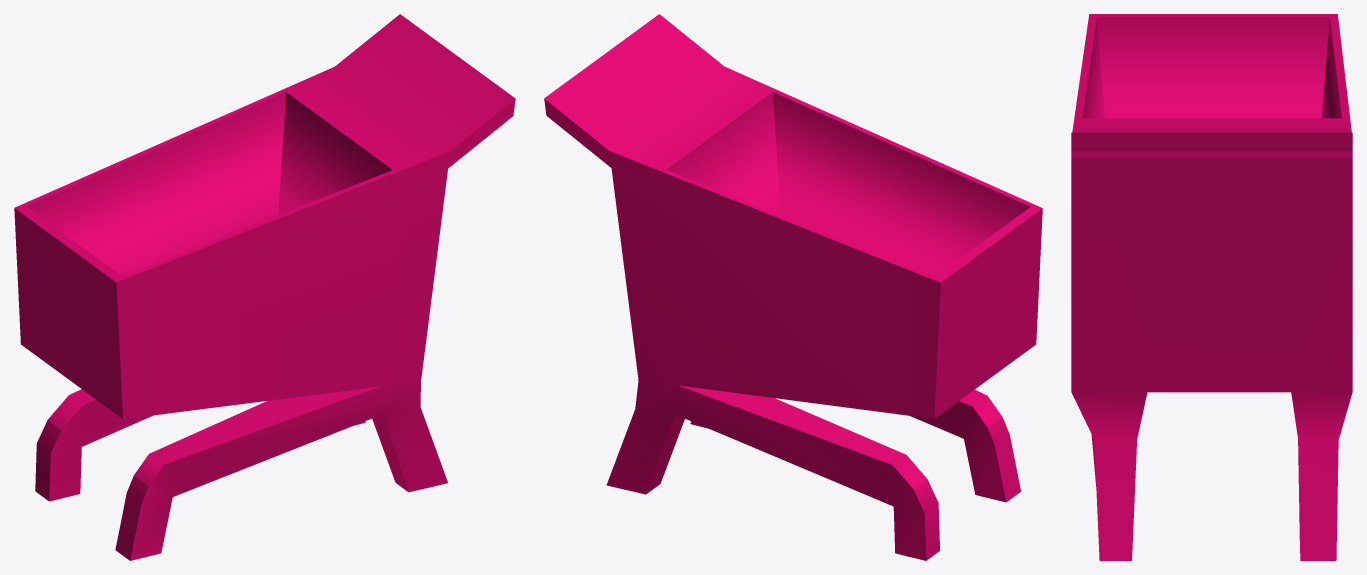
The model's file is Shopping_Cart_01_Collider.fbx.
3 renders of one model, left to right at view 1: azimuth 30°, elevation 25°; view 2: azimuth 150°, elevation 25°; view 3: azimuth 270°, elevation 25°, orthographic. The views are drawn at different scales.
Visible parts, largest first — view 1: Shopping_Cart_01_Collider; view 2: Shopping_Cart_01_Collider; view 3: Shopping_Cart_01_Collider.
Boxes of the visible parts, box(x1,y1,x2,y2) form: Shopping_Cart_01_Collider: box(14, 14, 515, 560); Shopping_Cart_01_Collider: box(544, 14, 1042, 560); Shopping_Cart_01_Collider: box(1071, 14, 1352, 560).
Size of the model in its own units: 102 by 93.98 by 51.88.
